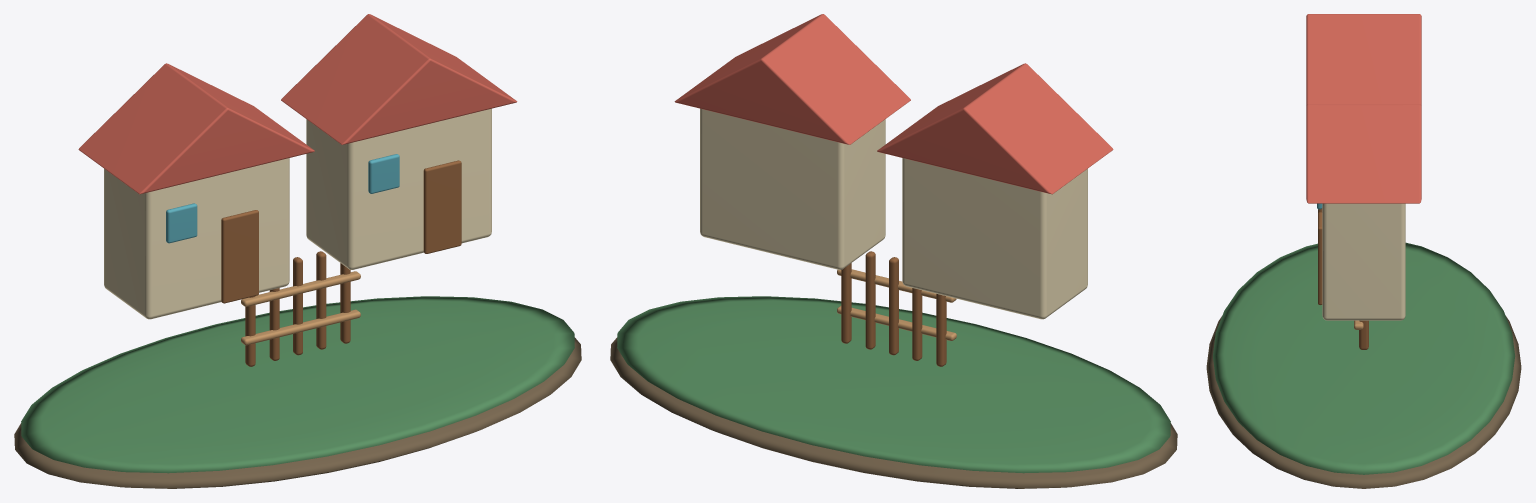
File: complete-second-neighbor-home.glb
3 views of the same model, side by side, from view 1: azimuth 30°, elevation 25°; view 2: azimuth 150°, elevation 25°; view 3: azimuth 270°, elevation 25° (orthographic). The views are drawn at different scales.
Parts seen in each view (by area): view 1: complete-second-neighbor-home_surface_01, complete-second-neighbor-home_surface_02, complete-second-neighbor-home_surface_03, complete-second-neighbor-home_surface_04, complete-second-neighbor-home_surface_00, complete-second-neighbor-home_surface_06, complete-second-neighbor-home_surface_05; view 2: complete-second-neighbor-home_surface_01, complete-second-neighbor-home_surface_02, complete-second-neighbor-home_surface_03, complete-second-neighbor-home_surface_00, complete-second-neighbor-home_surface_04, complete-second-neighbor-home_surface_06; view 3: complete-second-neighbor-home_surface_01, complete-second-neighbor-home_surface_03, complete-second-neighbor-home_surface_02, complete-second-neighbor-home_surface_00, complete-second-neighbor-home_surface_04.
Part boxes in pixels (x1,y1,x2,y2): complete-second-neighbor-home_surface_01: [21, 296, 574, 473]; complete-second-neighbor-home_surface_02: [104, 108, 491, 319]; complete-second-neighbor-home_surface_03: [78, 14, 517, 194]; complete-second-neighbor-home_surface_04: [221, 160, 461, 366]; complete-second-neighbor-home_surface_00: [14, 337, 581, 488]; complete-second-neighbor-home_surface_06: [241, 271, 360, 345]; complete-second-neighbor-home_surface_05: [166, 154, 399, 243]; complete-second-neighbor-home_surface_01: [617, 296, 1170, 473]; complete-second-neighbor-home_surface_02: [700, 108, 1087, 319]; complete-second-neighbor-home_surface_03: [674, 14, 1113, 194]; complete-second-neighbor-home_surface_00: [610, 337, 1177, 488]; complete-second-neighbor-home_surface_04: [841, 251, 946, 366]; complete-second-neighbor-home_surface_06: [837, 269, 956, 340]; complete-second-neighbor-home_surface_01: [1213, 242, 1515, 474]; complete-second-neighbor-home_surface_03: [1306, 14, 1421, 203]; complete-second-neighbor-home_surface_02: [1322, 203, 1405, 320]; complete-second-neighbor-home_surface_00: [1206, 316, 1521, 488]; complete-second-neighbor-home_surface_04: [1318, 208, 1368, 349].
Size of the model in its own units: 4.56 by 2.83 by 2.5.
